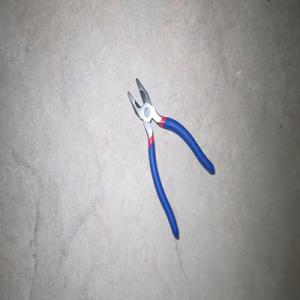Pliers: (127, 77, 214, 239)
